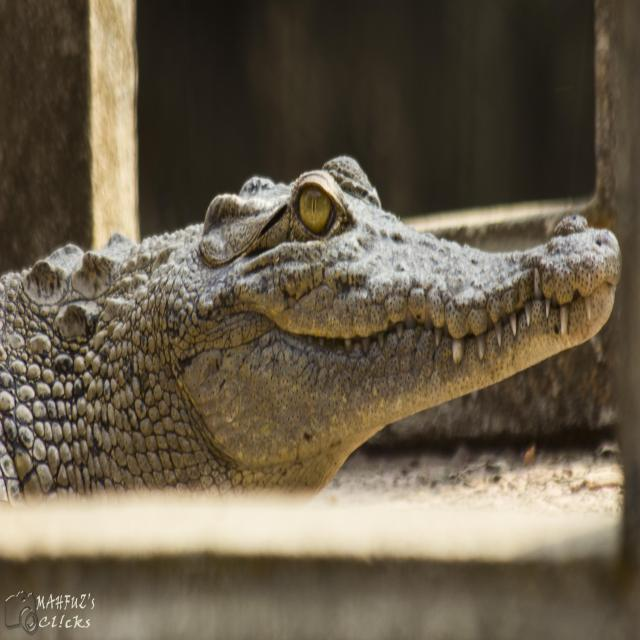crocodile: (0, 147, 620, 504)
